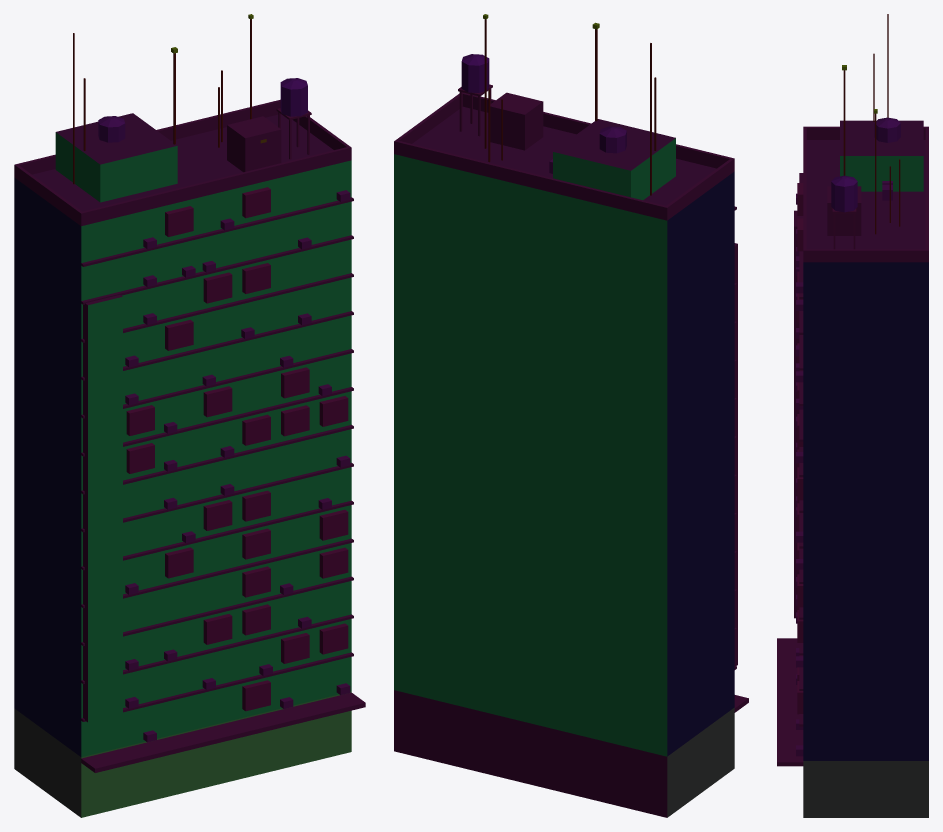
File: slab_k.lod1.glb
The picture shows the model from 3 angles, left to right: view 1: azimuth 30°, elevation 25°; view 2: azimuth 150°, elevation 25°; view 3: azimuth 270°, elevation 25°; orthographic projection. The views are drawn at different scales.
Visible parts, largest first — view 1: slab_k.lod1; view 2: slab_k.lod1; view 3: slab_k.lod1.
Boxes of the visible parts, left/top/right/bottom form: slab_k.lod1: left=14, top=14, right=365, bottom=817; slab_k.lod1: left=394, top=14, right=748, bottom=817; slab_k.lod1: left=777, top=14, right=928, bottom=817.
Bounding box in the file's own units: 22.4 × 58.72 × 11.6.
